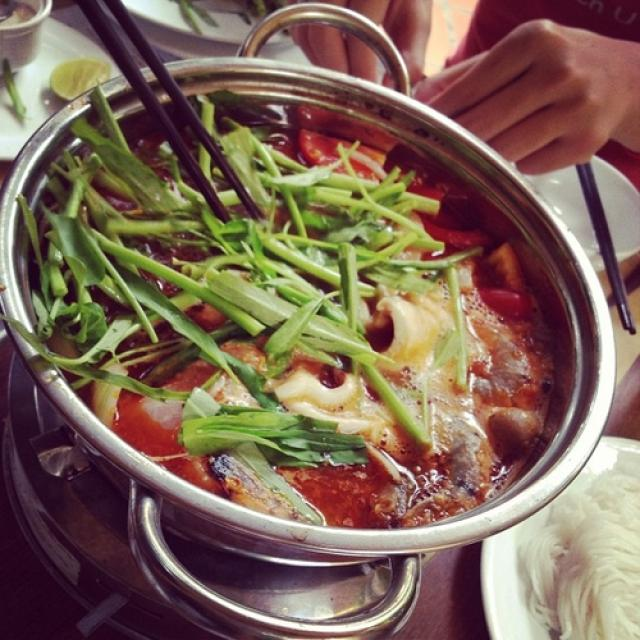汤锅炖物: (16, 37, 620, 586)
